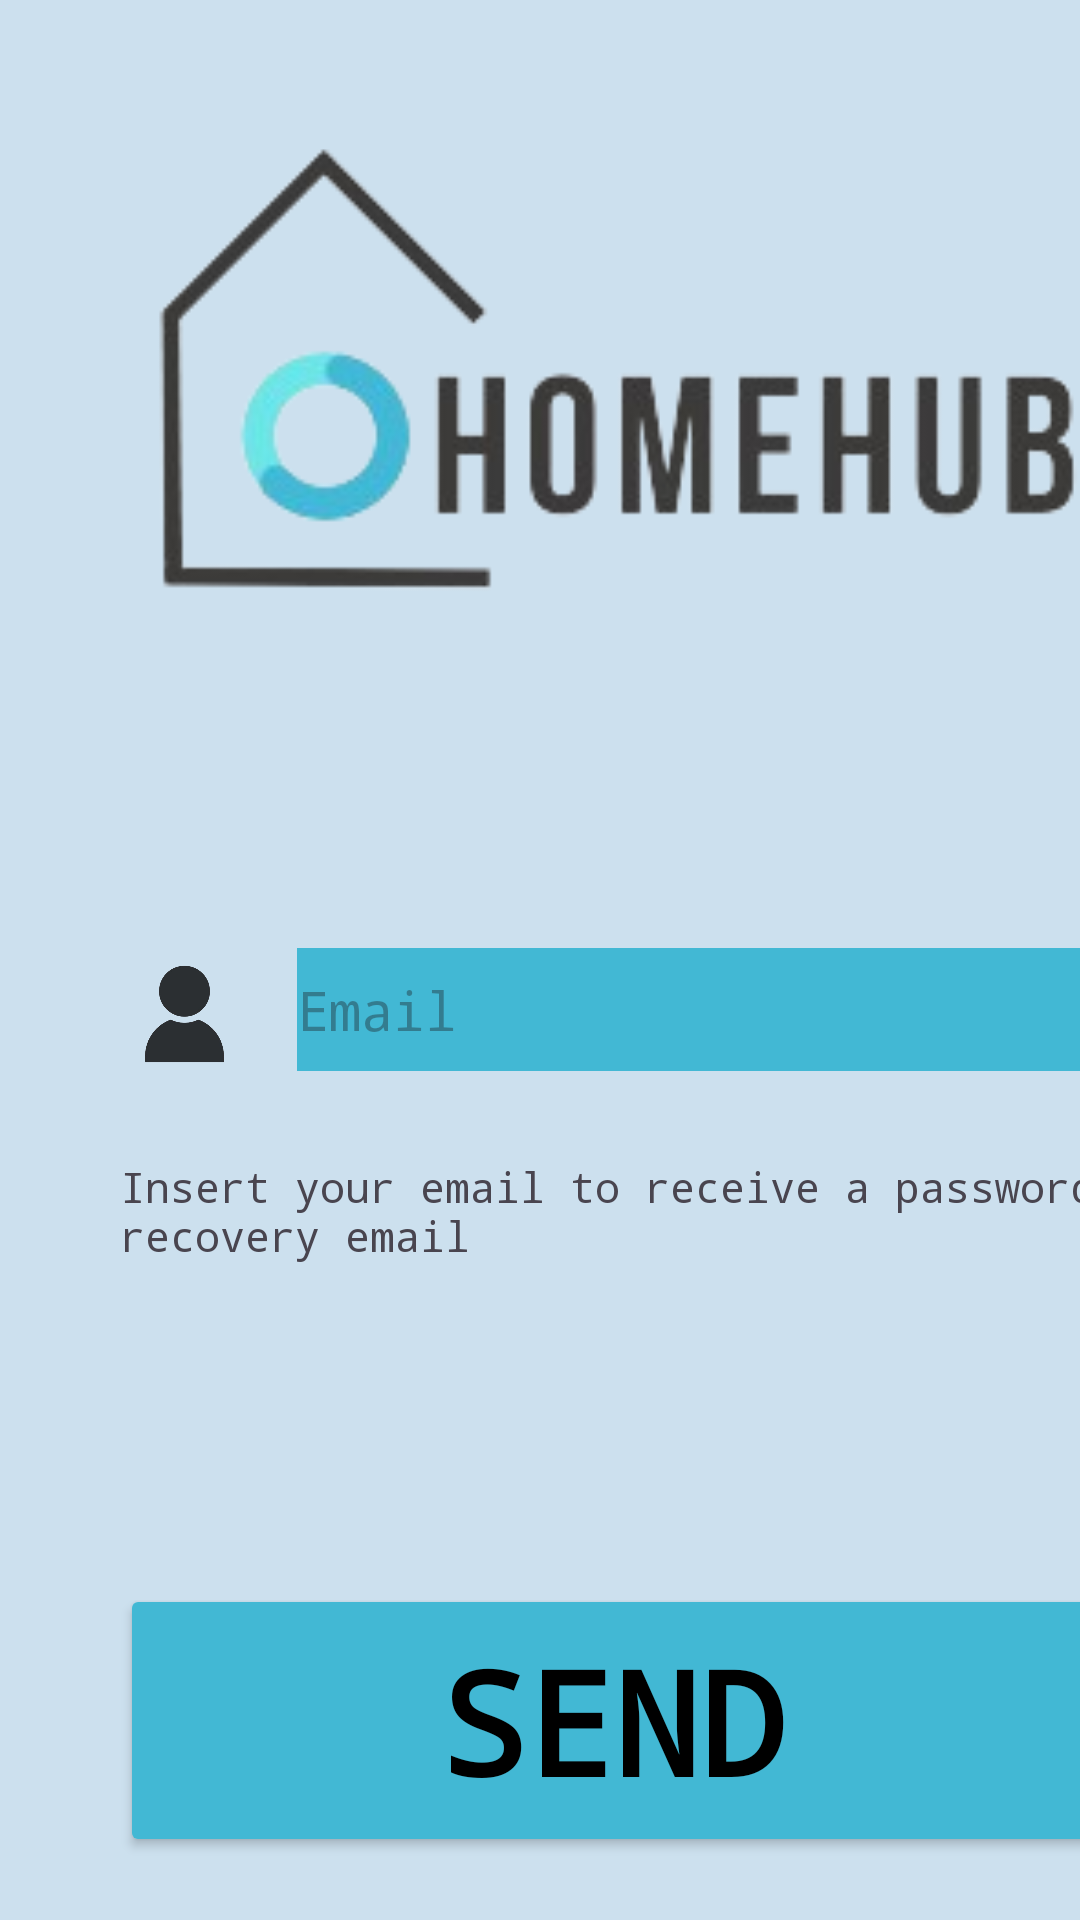

Screen size 1080px×1920px. Icon name, then its box in pixels as (x1, y1, x2, y2):
usuario: (145, 966, 224, 1062)
